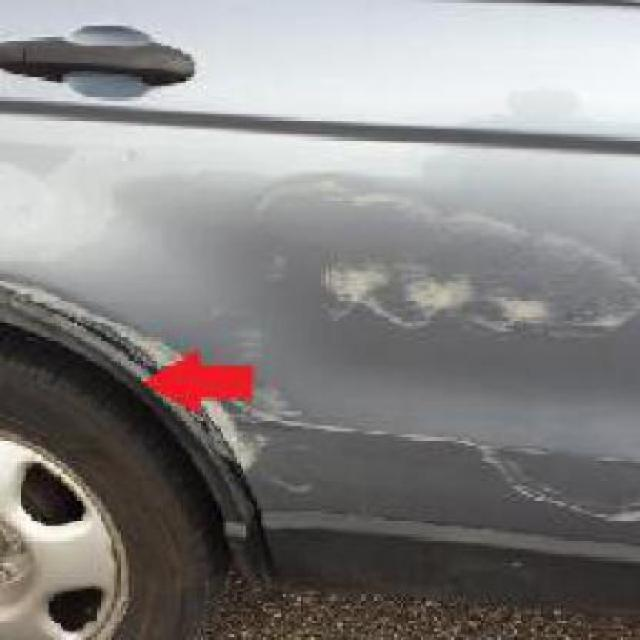dent-or-scratch: (280, 209, 623, 360), (271, 400, 637, 522)
